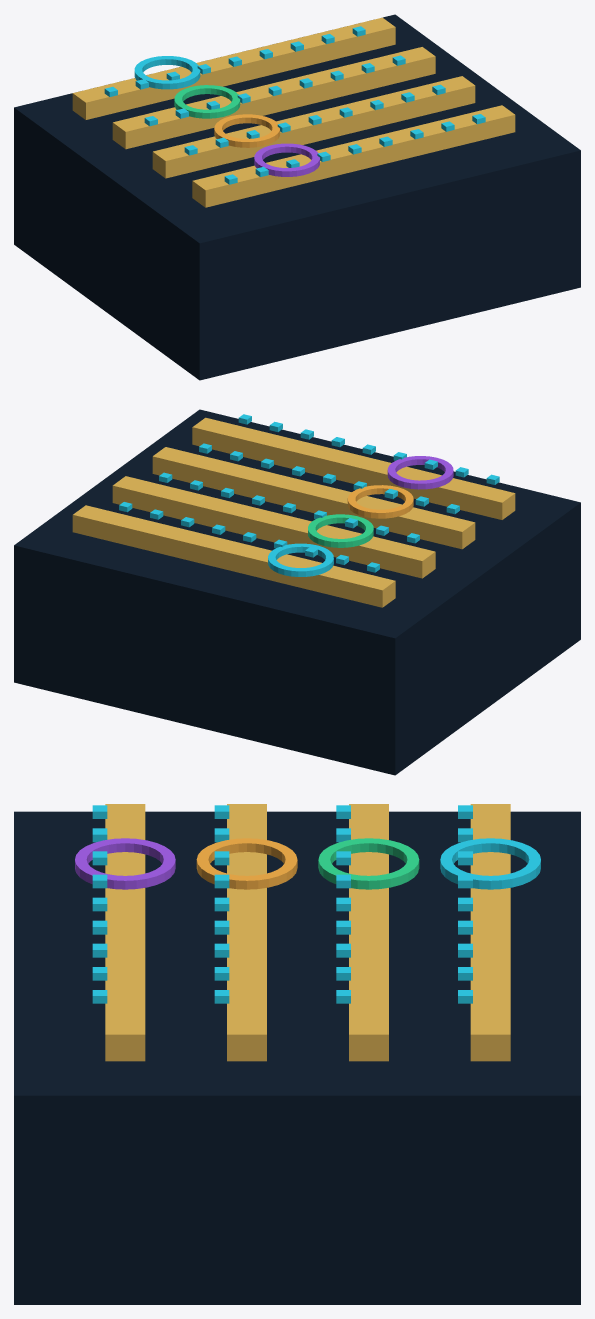
Rendered from 20_L80_HighSpeedTransmitterDriver.fbx.
The picture shows the model from 3 angles, top to bottom: view 1: azimuth 30°, elevation 25°; view 2: azimuth 150°, elevation 25°; view 3: azimuth 270°, elevation 25°; orthographic projection. The views are drawn at different scales.
Visible parts, largest first — view 1: HighSpeedTransmitterDriver; view 2: HighSpeedTransmitterDriver; view 3: HighSpeedTransmitterDriver.
Part boxes in pixels (x1,y1,x2,y2): HighSpeedTransmitterDriver: (14,14,580,380); HighSpeedTransmitterDriver: (14,409,580,775); HighSpeedTransmitterDriver: (14,804,580,1304).
Size of the model in its own units: 160 by 75.8 by 135.
